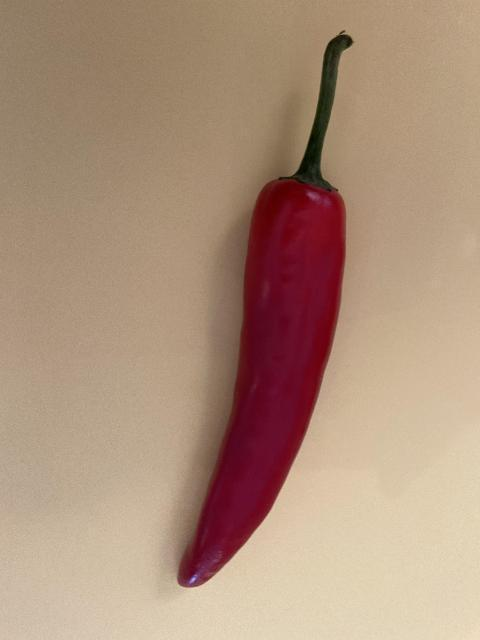chilli: (176, 32, 358, 590)
